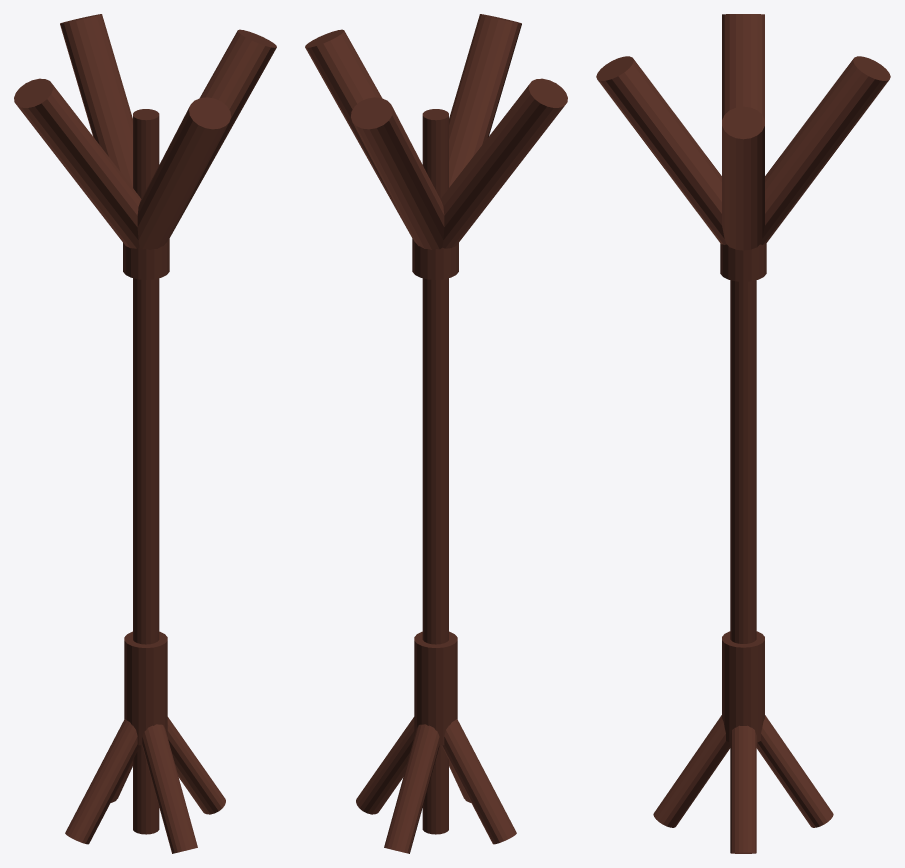
Rendered from Coat rack.obj.
The picture shows the model from 3 angles, left to right: view 1: azimuth 30°, elevation 25°; view 2: azimuth 150°, elevation 25°; view 3: azimuth 270°, elevation 25°; orthographic projection.
Visible parts, largest first — view 1: Cylinder001; view 2: Cylinder001; view 3: Cylinder001.
Part boxes in pixels (x1,y1,x2,y2): Cylinder001: (14, 14, 276, 853); Cylinder001: (305, 14, 567, 853); Cylinder001: (596, 14, 890, 853).
Size of the model in its own units: 233253 by 669992 by 233253.
